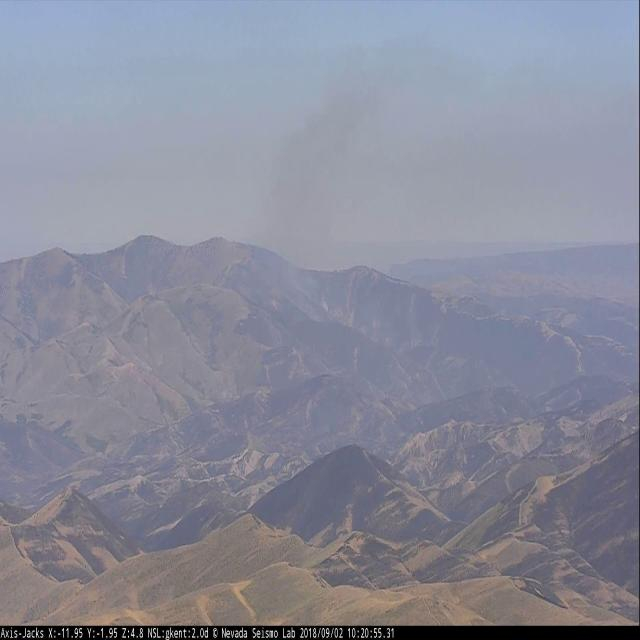smoke: (270, 38, 408, 308)
